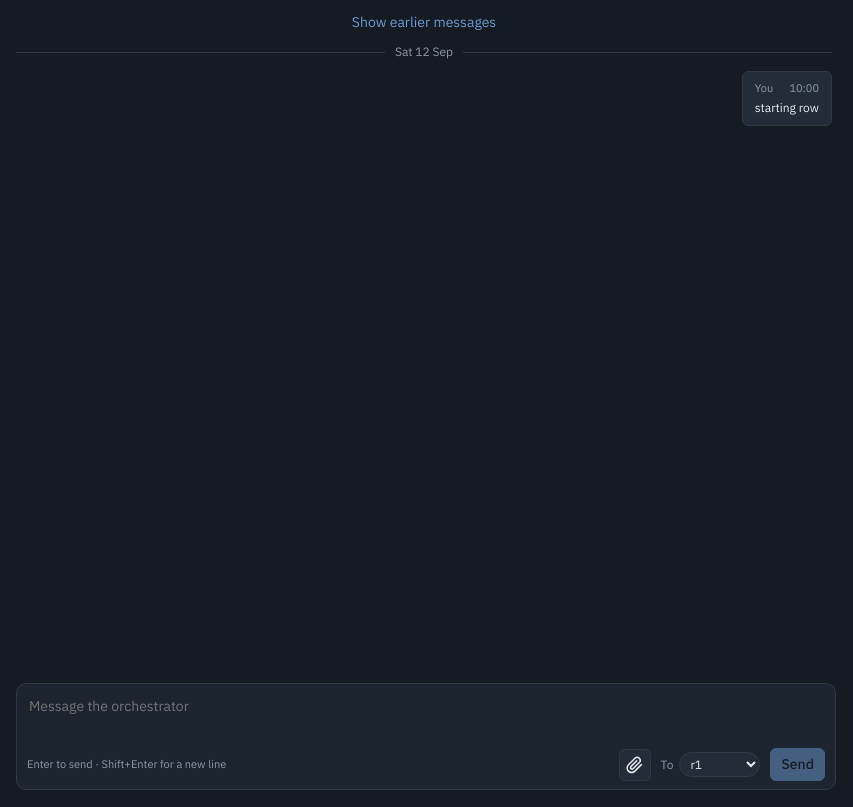
Chat › does not count an earlier page as new rows
The image size is (853, 807).
Check: the text "starting row" is shown, box [755,98,819,116]
Click the button "Show earlier messages" at coordinates (424, 22), box [16,12,832,33]
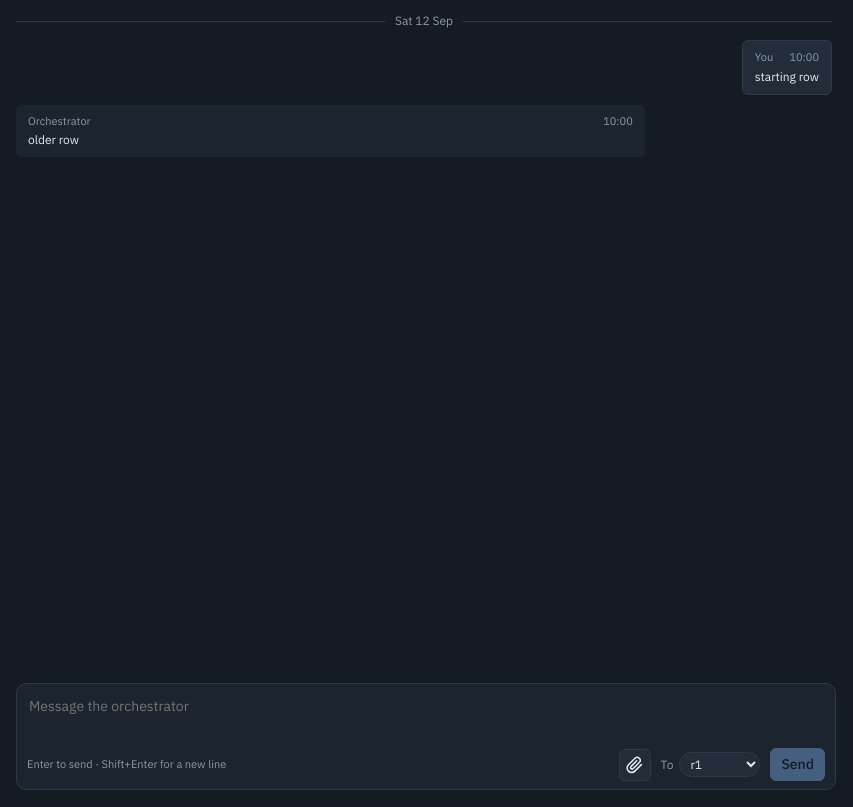
Check: the text "older row" is shown, box [28,132,79,147]
